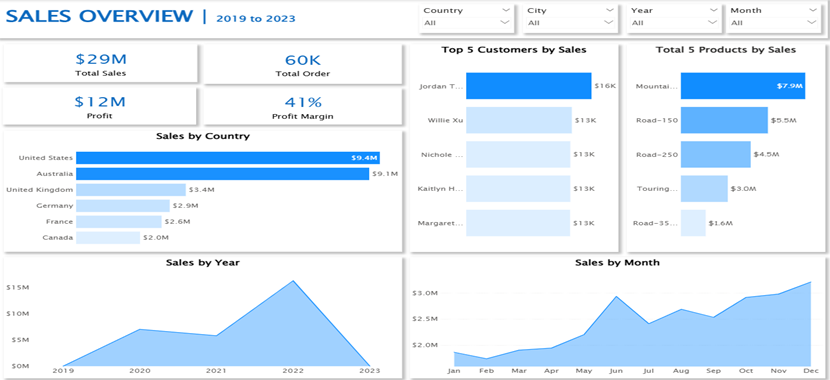

The dashboard page shown, as its layout file describes it:
{"tool":"powerbi","page":{"name":"SO","canvas":[2600,1780],"ordinal":0},"visuals":[{"type":"textbox","box":[20,30,1222.5,137.5],"z":0},{"type":"card","fields":{"Values":["dax_measures.1. Total Sales"]},"box":[19.5,240.7,600,180],"z":1000},{"type":"barChart","title":"Top 5 Customer by Sales ","fields":{"Category":["1  Dim_Customers.CustomerName"],"Y":["dax_measures.1. Total Sales"]},"box":[1953.3,240,616.7,966.7],"z":2000},{"type":"card","fields":{"Values":["dax_measures.3. Total Order"]},"box":[643.5,240,600,180],"z":3000},{"type":"actionButton","box":[0,0,100,40],"z":4000},{"type":"card","fields":{"Values":["dax_measures.5. Profit"]},"box":[19.5,444.7,600,180],"z":5000},{"type":"barChart","title":"Top 5 Product Model by Sales ","fields":{"Y":["dax_measures.1. Total Sales"],"Category":["3  Dim_Products.ModelName"]},"box":[1303.3,240,616.7,966.7],"z":6000},{"type":"card","fields":{"Values":["dax_measures.6. Profit Margin"]},"box":[641.5,444,600,180],"z":7000},{"type":"barChart","title":"Sales by Country","fields":{"Category":["2  Dim_Geography.CountryName"],"Y":["dax_measures.1. Total Sales"]},"box":[16.7,640,1240,566.7],"z":9000},{"type":"slicer","fields":{"Values":["calendar.MonthNo","calendar.Month"]},"box":[1623.9,40,313,160],"z":9500},{"type":"stackedAreaChart","title":"Sales by Month","fields":{"Y":["dax_measures.1. Total Sales"],"Category":["calendar.Month"]},"box":[1283.3,1243.3,1296.7,513.3],"z":10000},{"type":"stackedAreaChart","title":"Sales by Year","fields":{"Y":["dax_measures.1. Total Sales"],"Category":["0  dim_date.Year"]},"box":[16,1242,1240,514],"z":11000},{"type":"slicer","fields":{"Values":["4  Fact_Sales.OrderDate.Variation.Date Hierarchy.Year"]},"box":[1300,40,313,160],"z":14500},{"type":"slicer","fields":{"Values":["2  Dim_Geography.City"]},"box":[2271.8,40,313,160],"z":15000},{"type":"slicer","fields":{"Values":["2  Dim_Geography.CountryName"]},"box":[1947.9,40,313,160],"z":15500}]}

Visuals, with their boxes on the page's 2600x1780 design canvas (x1, y1, x2, y2). These are canvas units, not pixel positions in the 830x380 screenshot, which may show the page scaled, cropped or inside an application window:
textbox: BBox(20, 30, 1242, 168)
card - dax_measures.1. Total Sales: BBox(20, 241, 620, 421)
"Top 5 Customer by Sales " barChart: BBox(1953, 240, 2570, 1207)
card - dax_measures.3. Total Order: BBox(644, 240, 1244, 420)
actionButton: BBox(0, 0, 100, 40)
card - dax_measures.5. Profit: BBox(20, 445, 620, 625)
"Top 5 Product Model by Sales " barChart: BBox(1303, 240, 1920, 1207)
card - dax_measures.6. Profit Margin: BBox(642, 444, 1242, 624)
"Sales by Country" barChart: BBox(17, 640, 1257, 1207)
slicer - calendar.MonthNo x calendar.Month: BBox(1624, 40, 1937, 200)
"Sales by Month" stackedAreaChart: BBox(1283, 1243, 2580, 1757)
"Sales by Year" stackedAreaChart: BBox(16, 1242, 1256, 1756)
slicer - 4  Fact_Sales.OrderDate.Variation.Date Hierarchy.Year: BBox(1300, 40, 1613, 200)
slicer - 2  Dim_Geography.City: BBox(2272, 40, 2585, 200)
slicer - 2  Dim_Geography.CountryName: BBox(1948, 40, 2261, 200)
